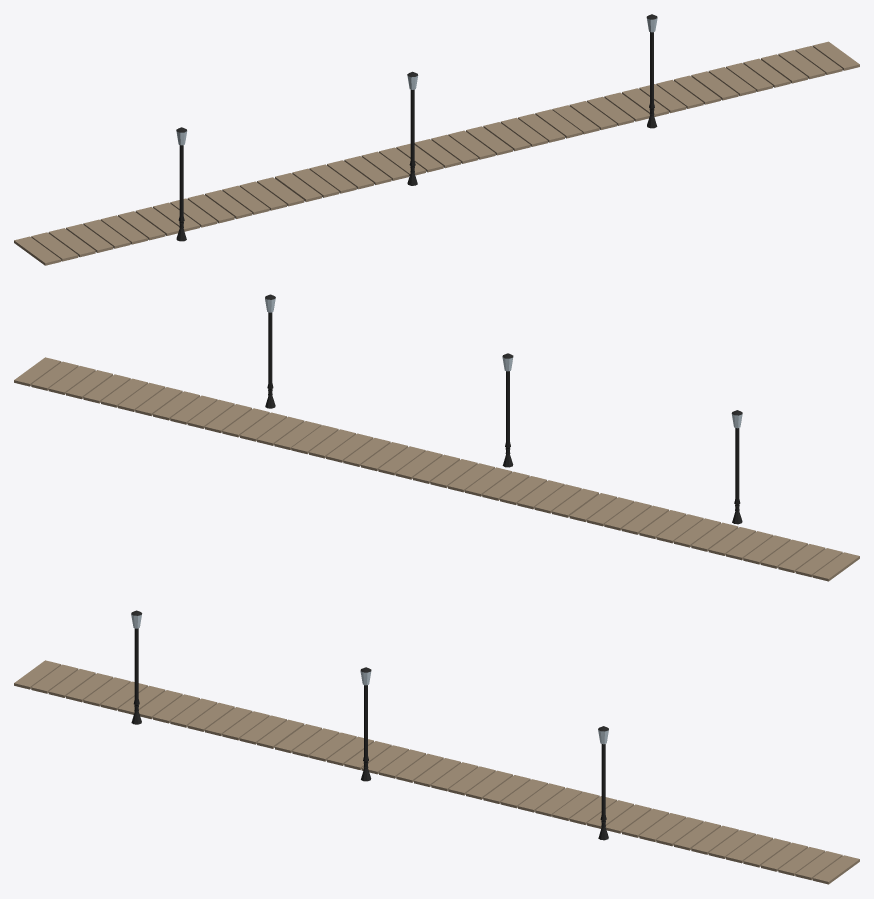
Rendered from boardwalk.glb.
The picture shows the model from 3 angles, top to bottom: view 1: azimuth 30°, elevation 25°; view 2: azimuth 150°, elevation 25°; view 3: azimuth 330°, elevation 25°; orthographic projection.
Parts seen in each view (by area): view 1: Board_Walk_geo, Light_Post_geo_010, Light_Post_geo_01, Light_Post_geo_06; view 2: Board_Walk_geo, Light_Post_geo_06, Light_Post_geo_010, Light_Post_geo_01; view 3: Board_Walk_geo, Light_Post_geo_010, Light_Post_geo_06, Light_Post_geo_01.
Part boxes in pixels (x1,y1,x2,y2): Board_Walk_geo: (14, 41, 859, 265); Light_Post_geo_010: (176, 127, 187, 241); Light_Post_geo_01: (407, 71, 418, 185); Light_Post_geo_06: (646, 14, 657, 128); Board_Walk_geo: (14, 357, 859, 581); Light_Post_geo_06: (265, 294, 275, 408); Light_Post_geo_010: (731, 410, 742, 524); Light_Post_geo_01: (502, 353, 513, 467); Board_Walk_geo: (14, 660, 859, 884); Light_Post_geo_010: (131, 610, 142, 724); Light_Post_geo_06: (598, 726, 608, 840); Light_Post_geo_01: (360, 667, 371, 781).
Size of the model in its own units: 22.93 by 3.01 by 2.08.
4 materials, 3 textured.
